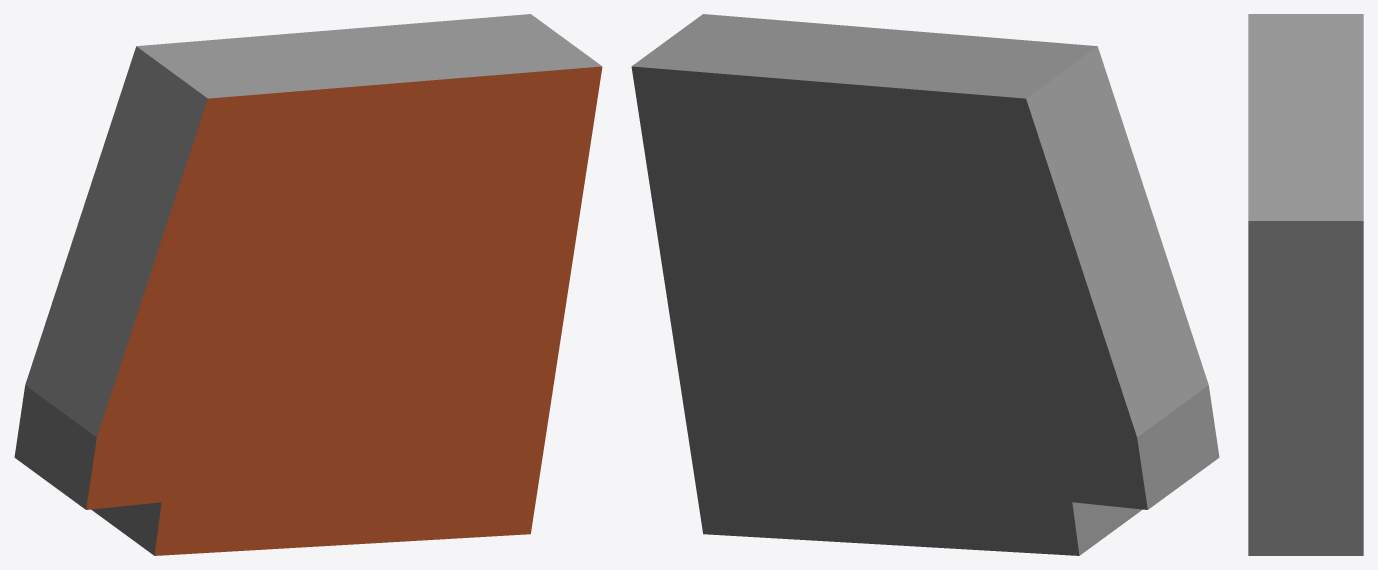
File: construction_1101_assumed_A_Casa_h6m.obj
3 renders of one model, left to right at view 1: azimuth 30°, elevation 25°; view 2: azimuth 150°, elevation 25°; view 3: azimuth 270°, elevation 25°, orthographic. The views are drawn at different scales.
Visible parts, largest first — view 1: construction_1101_assumed_A_Casa; view 2: construction_1101_assumed_A_Casa; view 3: construction_1101_assumed_A_Casa.
Boxes of the visible parts, x1,y1,x2,y2 form: construction_1101_assumed_A_Casa: (14, 14, 602, 555); construction_1101_assumed_A_Casa: (631, 14, 1219, 555); construction_1101_assumed_A_Casa: (1248, 14, 1363, 555).
Bounding box in the file's own units: 24.97 × 23.76 × 6.
